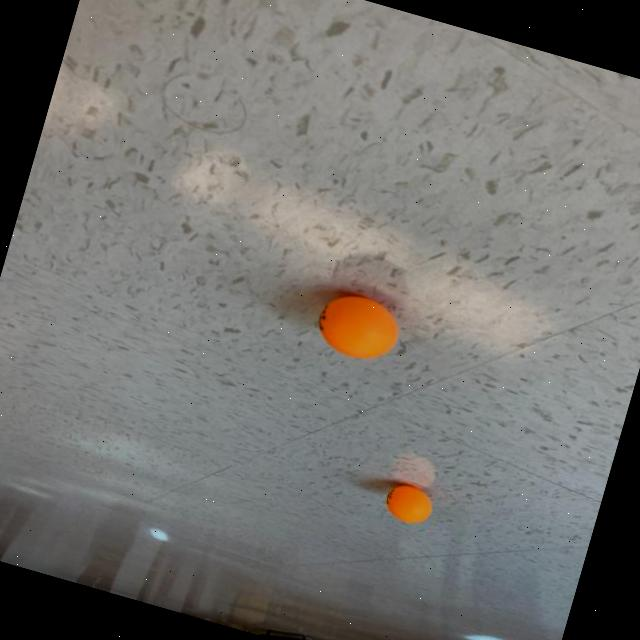ping-pong-ball: (304, 284, 412, 370), (378, 476, 441, 531)
